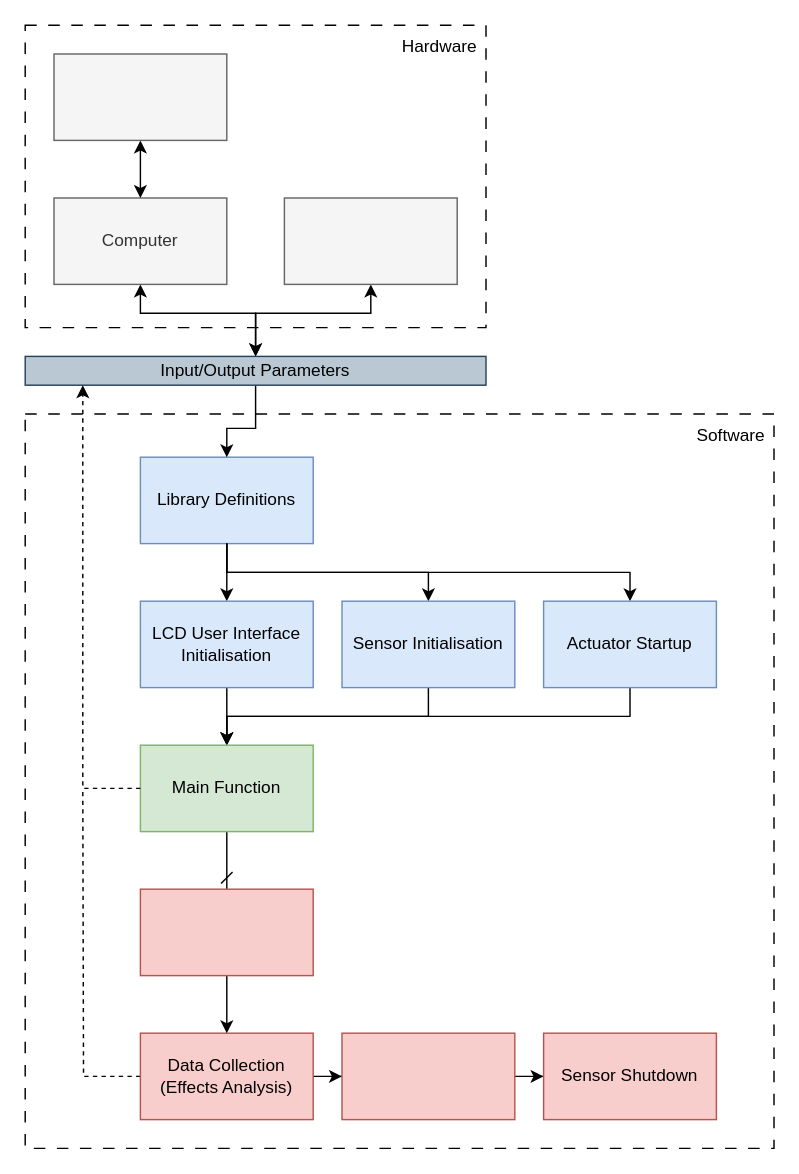
The diagram is 799 pixels wide and 1174 high, and some of its shapes have lost their labels. The centre of each missing label's shape, as x and y in pixels:
Actuator Shutdown: (x=428, y=1076)
Executable PyQt GUI: (x=140, y=96)
Failure Detection (FMEA): (x=226, y=932)
LCD User Interface: (x=370, y=240)
